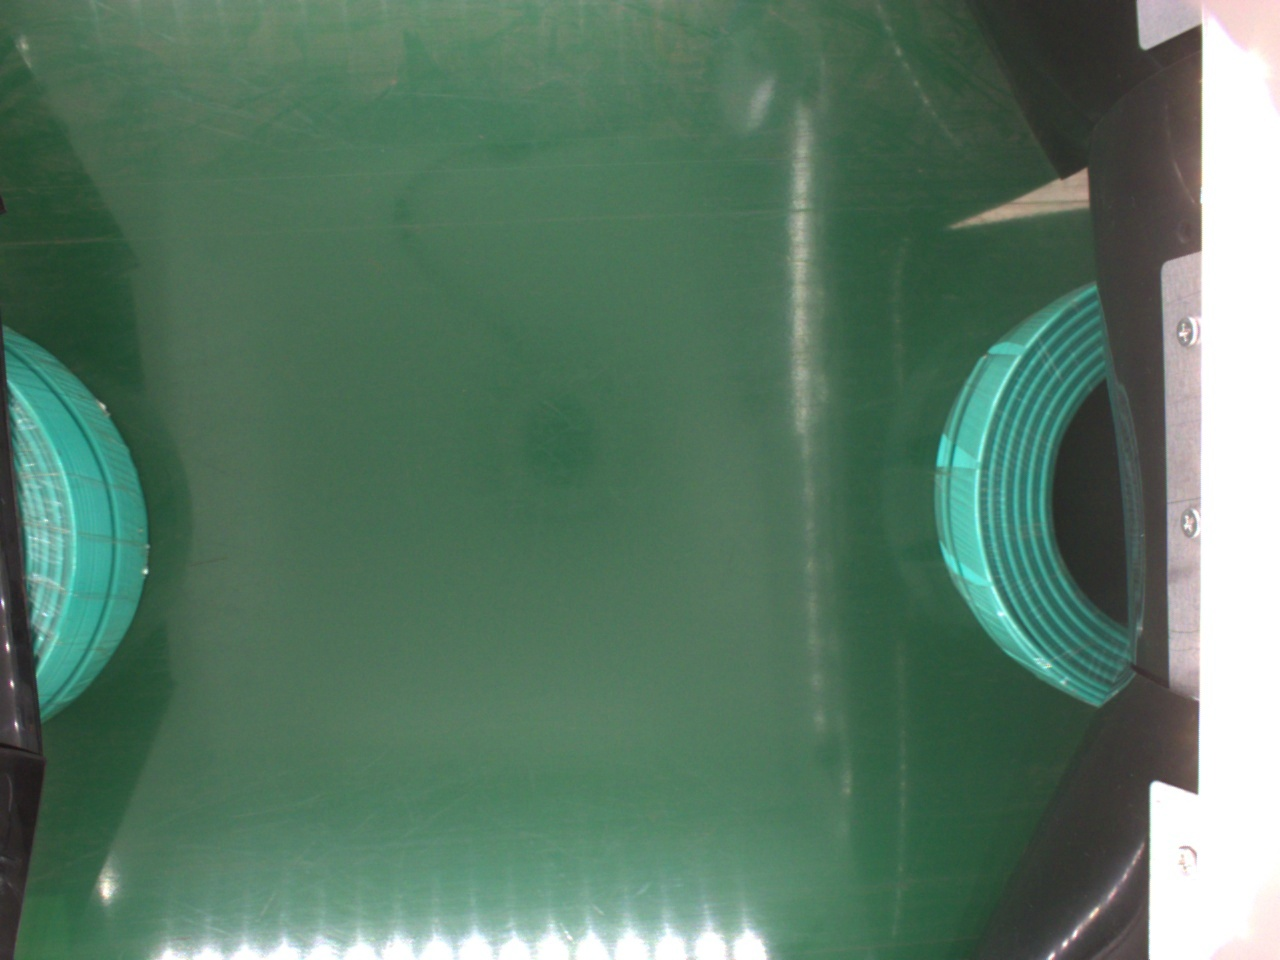green: (938, 281, 1141, 707), (0, 322, 149, 725)
